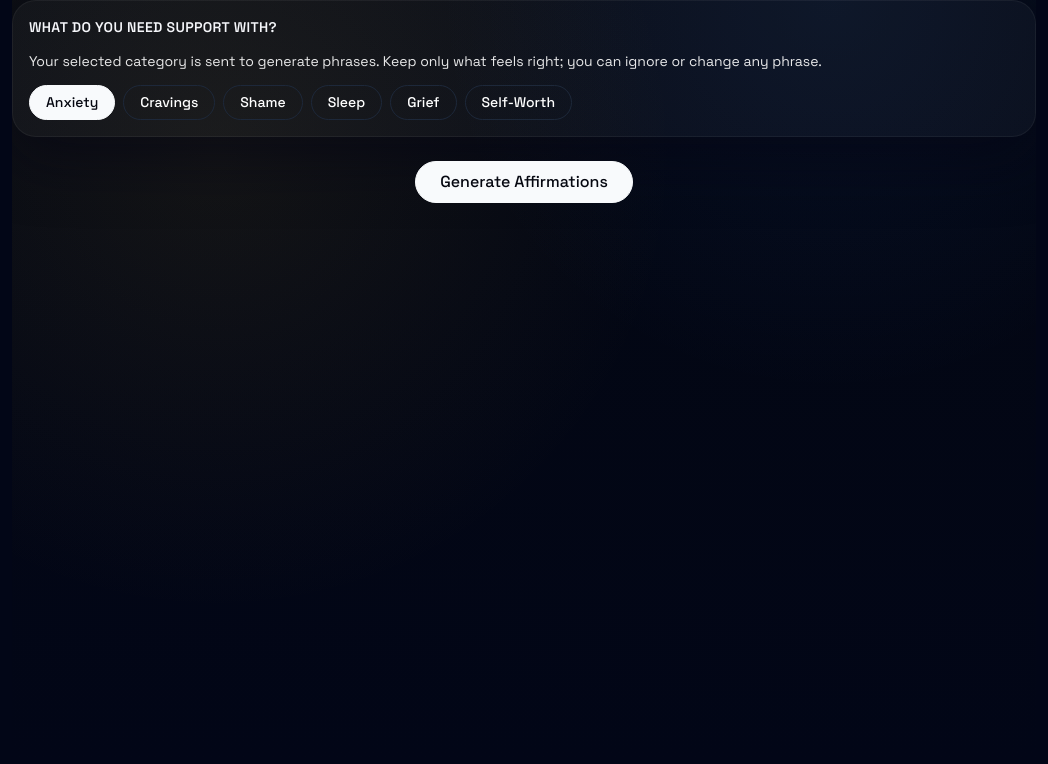
Test: AffirmationsTool and Healer › keeps usable local starter phrases when the response is incomplete
The width and height of the screenshot is (1048, 764).
Click the button "Generate Affirmations" at (524, 182), box [415,161,633,203]
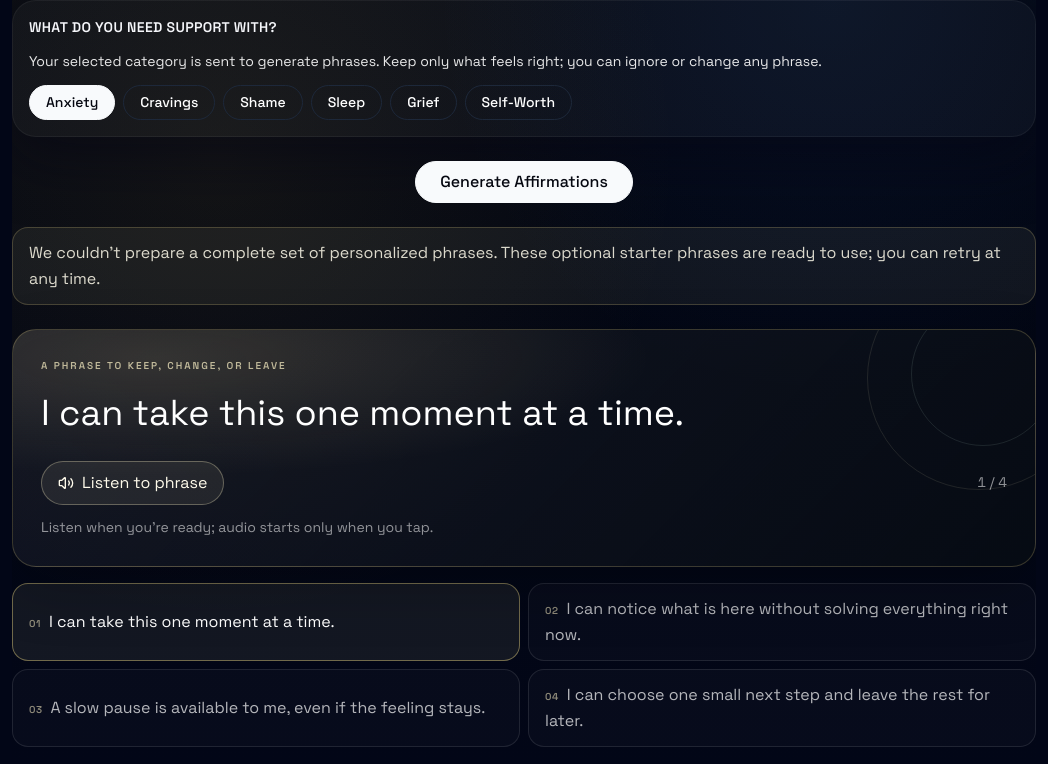
Result: the text "couldn’t prepare a complete set" is shown at [29,242,1001,289]
Result: the text "I can take this one moment at a time." is shown at [41,390,684,436]
